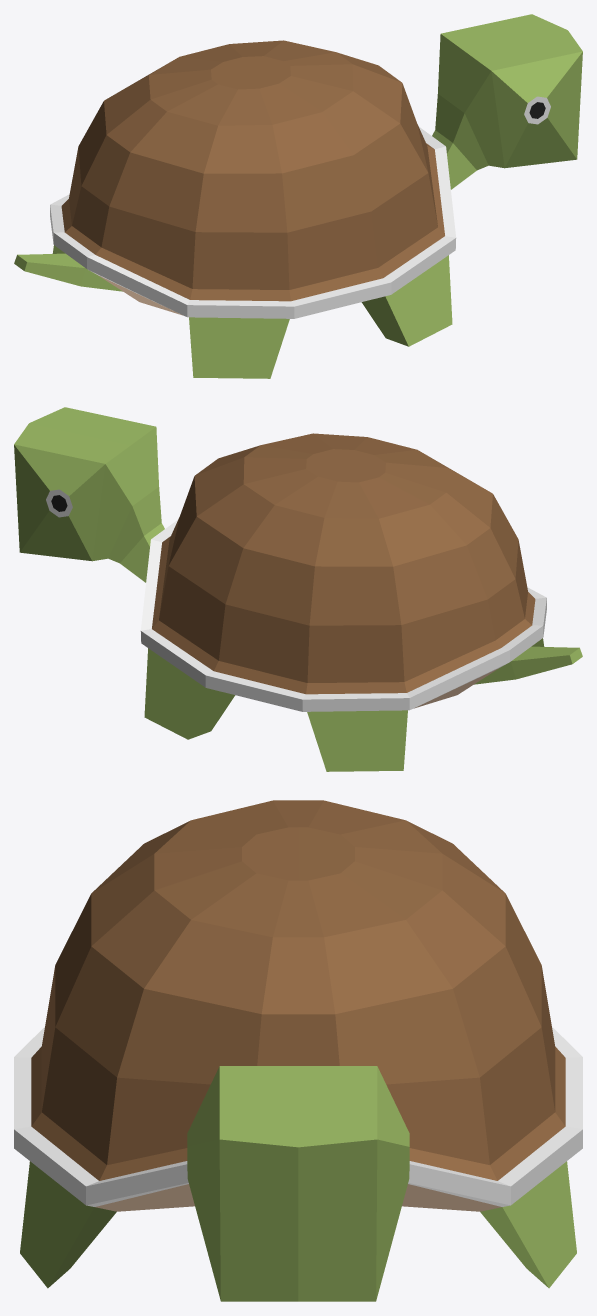
File: turtle.glb
3 renders of one model, top to bottom at view 1: azimuth 30°, elevation 25°; view 2: azimuth 150°, elevation 25°; view 3: azimuth 270°, elevation 25°, orthographic. The views are drawn at different scales.
Visible parts, largest first — view 1: Cylinder; view 2: Cylinder; view 3: Cylinder.
Part boxes in pixels (x1,y1,x2,y2): Cylinder: (14,14,582,378); Cylinder: (14,407,582,771); Cylinder: (14,800,582,1301).
Bounding box in the file's own units: 8.1 × 3.17 × 4.7.
1 material, 1 textured.
